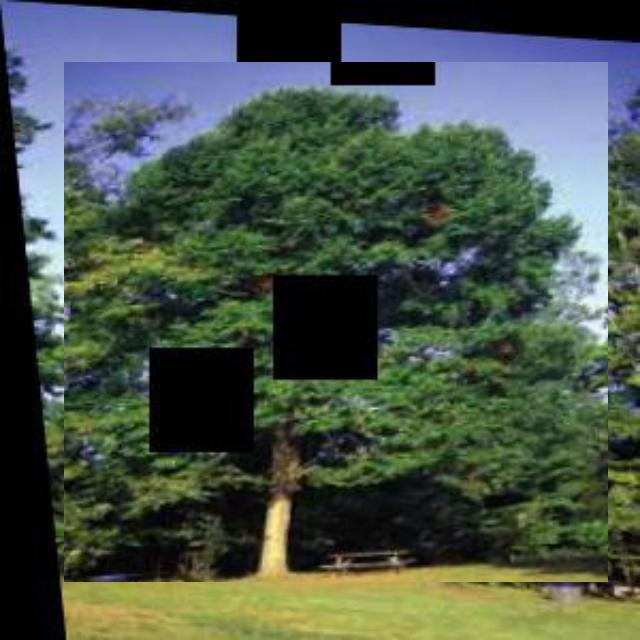tree: (64, 62, 608, 582)
